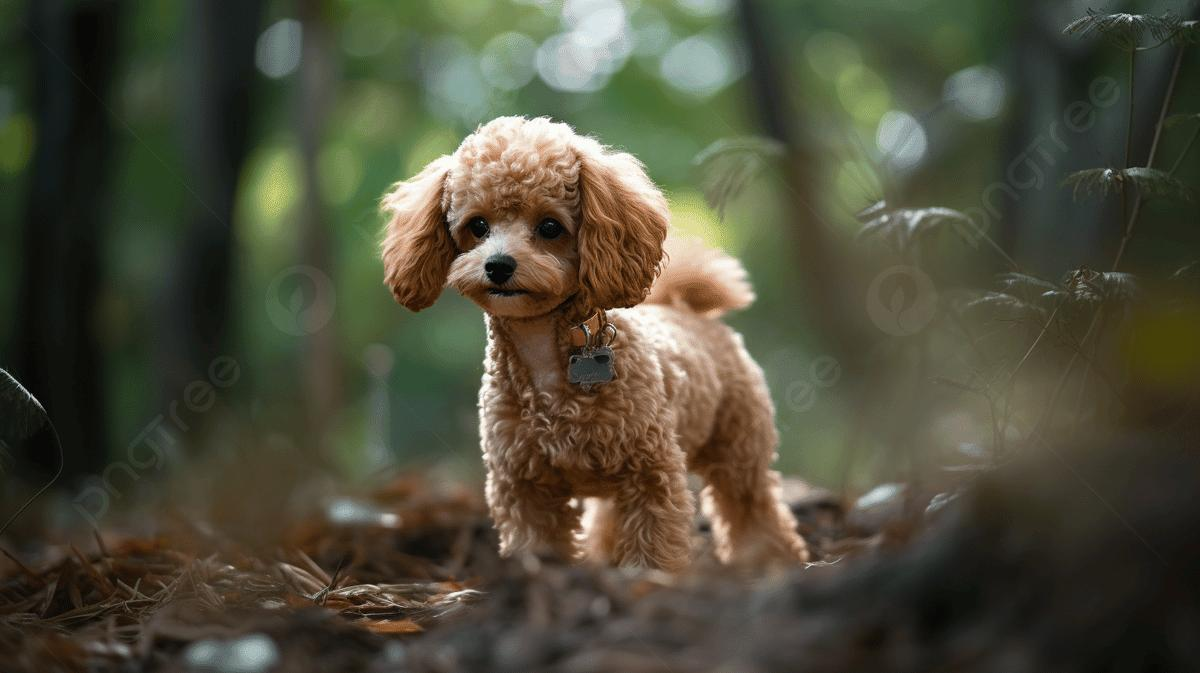dog: (373, 102, 828, 585)
